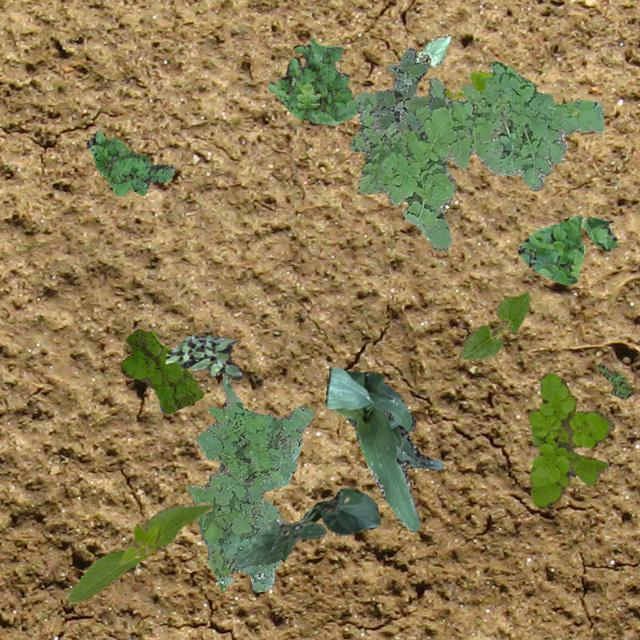crop: (324, 366, 444, 530), (67, 501, 212, 602), (230, 488, 378, 566), (458, 291, 530, 358), (443, 64, 513, 100), (414, 34, 449, 66)
weed: (348, 61, 604, 250), (185, 372, 312, 592), (528, 372, 614, 508), (268, 38, 360, 124), (516, 214, 616, 284), (120, 328, 202, 412), (86, 130, 176, 194), (368, 46, 428, 132), (165, 334, 243, 379), (598, 362, 630, 398)
